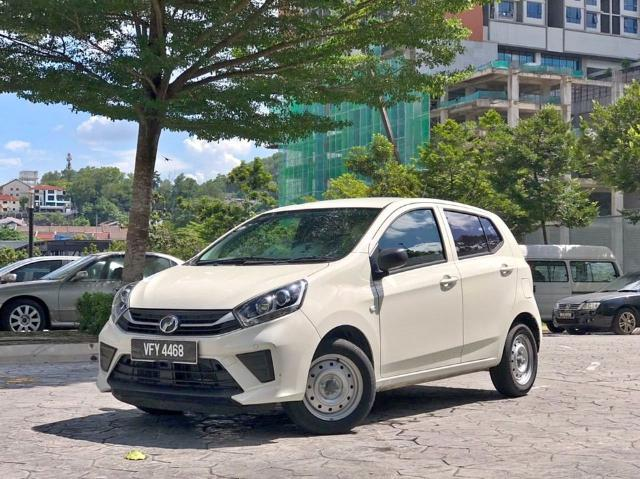License_Plate: (136, 340, 191, 363)
car: (98, 193, 550, 433)
